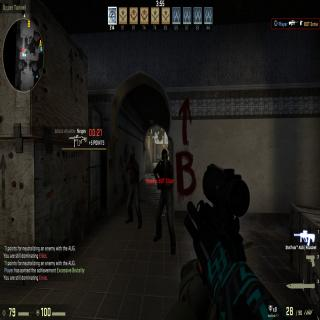T-Body: (154, 148, 176, 250), (124, 149, 142, 225)
T-Head: (126, 150, 138, 165), (160, 148, 168, 169)
